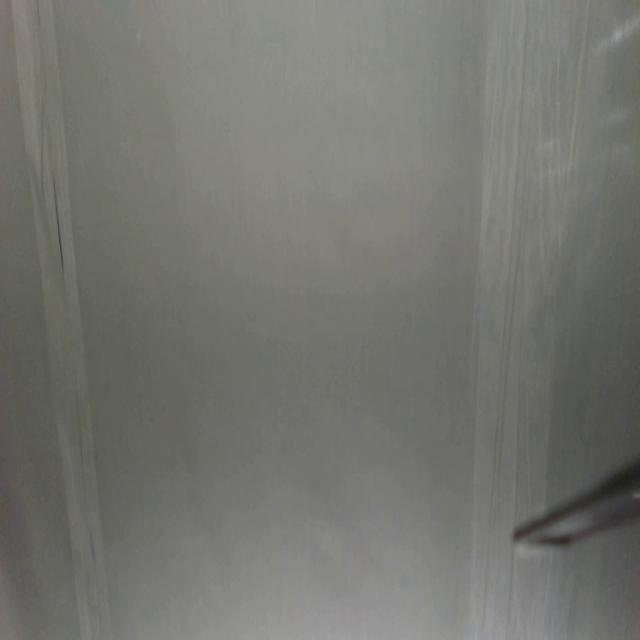crease: (12, 1, 115, 637), (472, 1, 554, 510), (472, 547, 562, 640)
